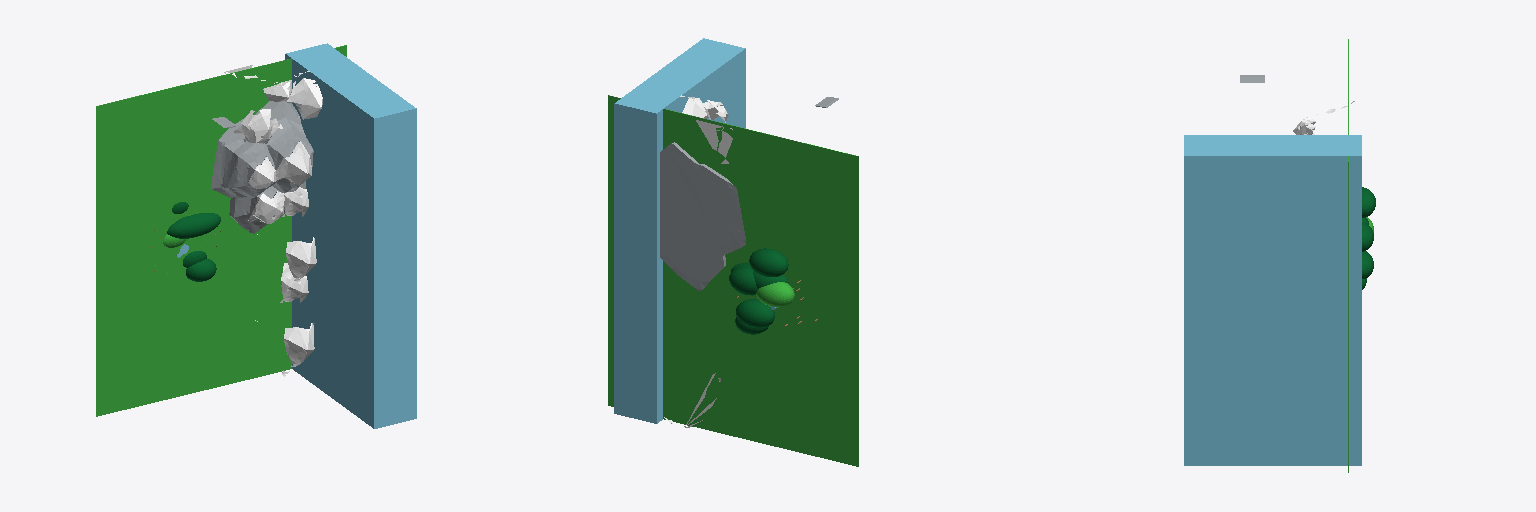
File: tinker.obj
The picture shows the model from 3 angles: view 1: azimuth 30°, elevation 25°; view 2: azimuth 150°, elevation 25°; view 3: azimuth 270°, elevation 25°; orthographic projection.
Parts seen in each view (by area): view 1: obj_0; view 2: obj_0; view 3: obj_0.
Boxes of the visible parts, box(x1,y1,x2,y2) form: obj_0: box(96, 43, 416, 428); obj_0: box(608, 38, 858, 466); obj_0: box(1184, 39, 1375, 472).
Bounding box in the file's own units: 845 × 998 × 560.